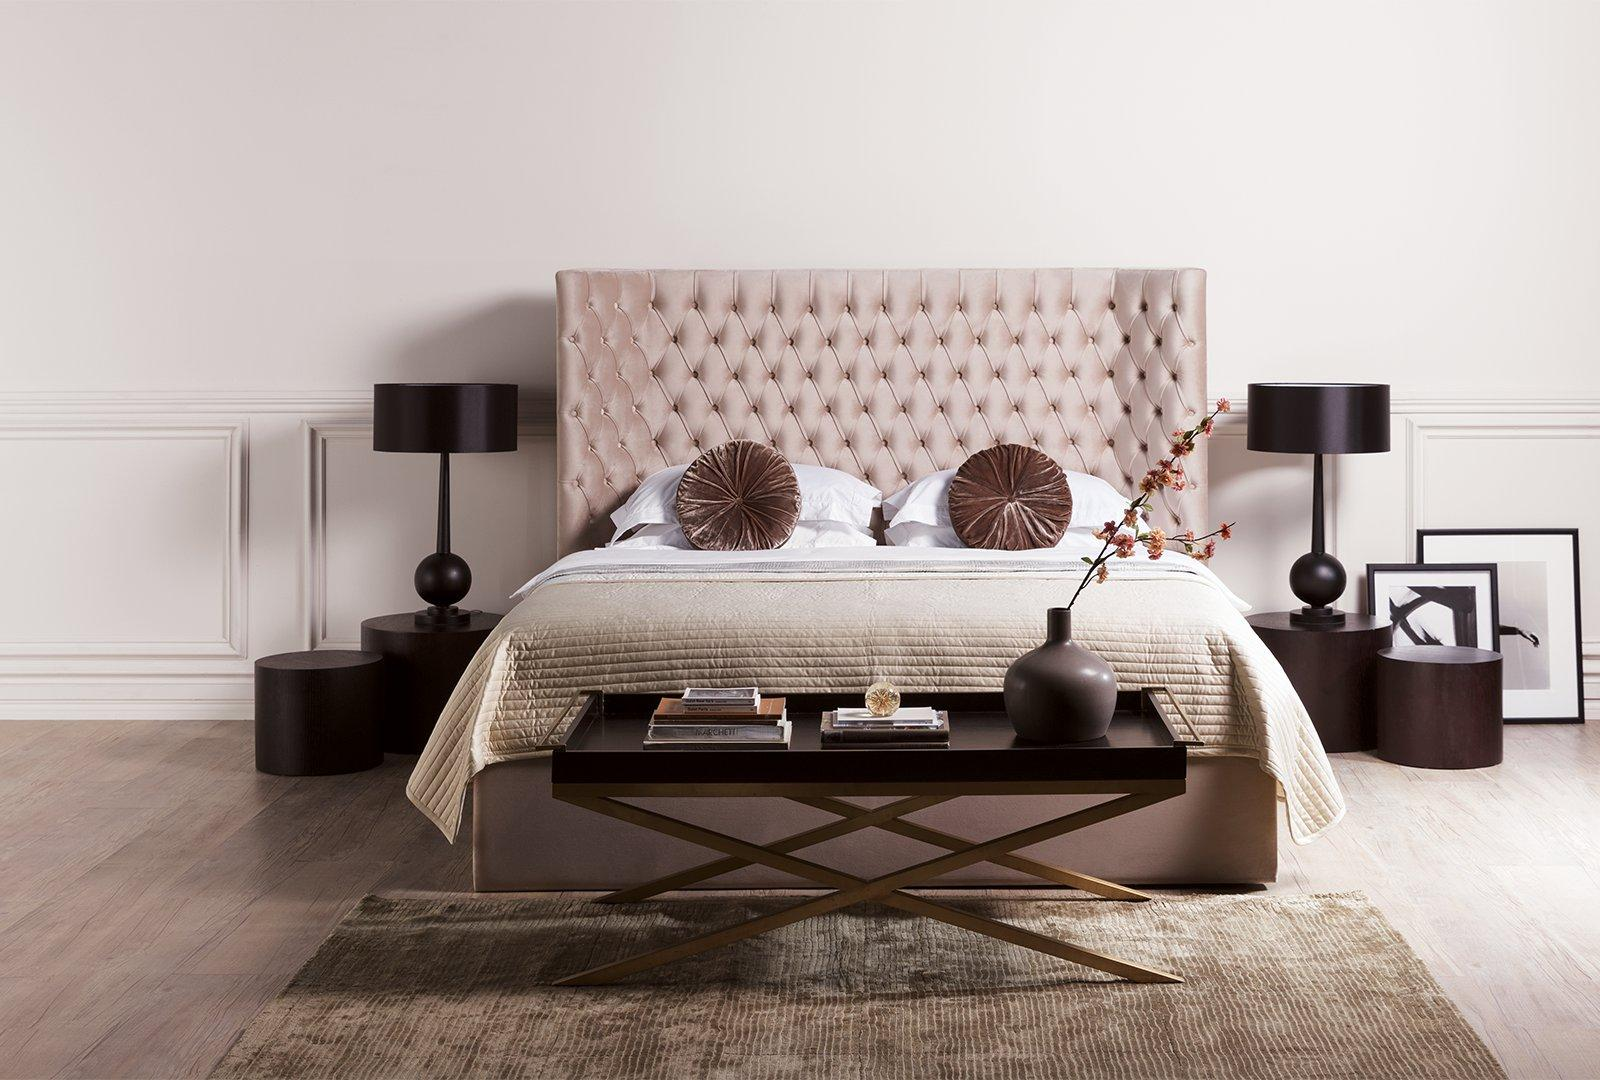bed: (482, 263, 1290, 912)
